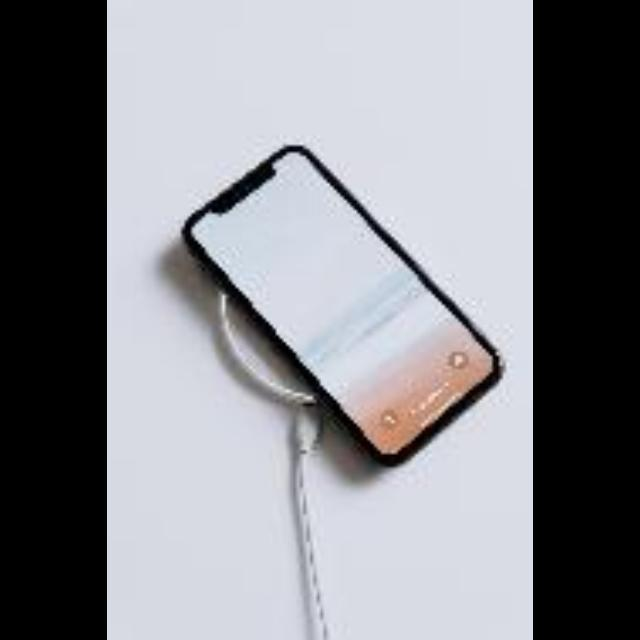phone: (175, 140, 513, 462)
